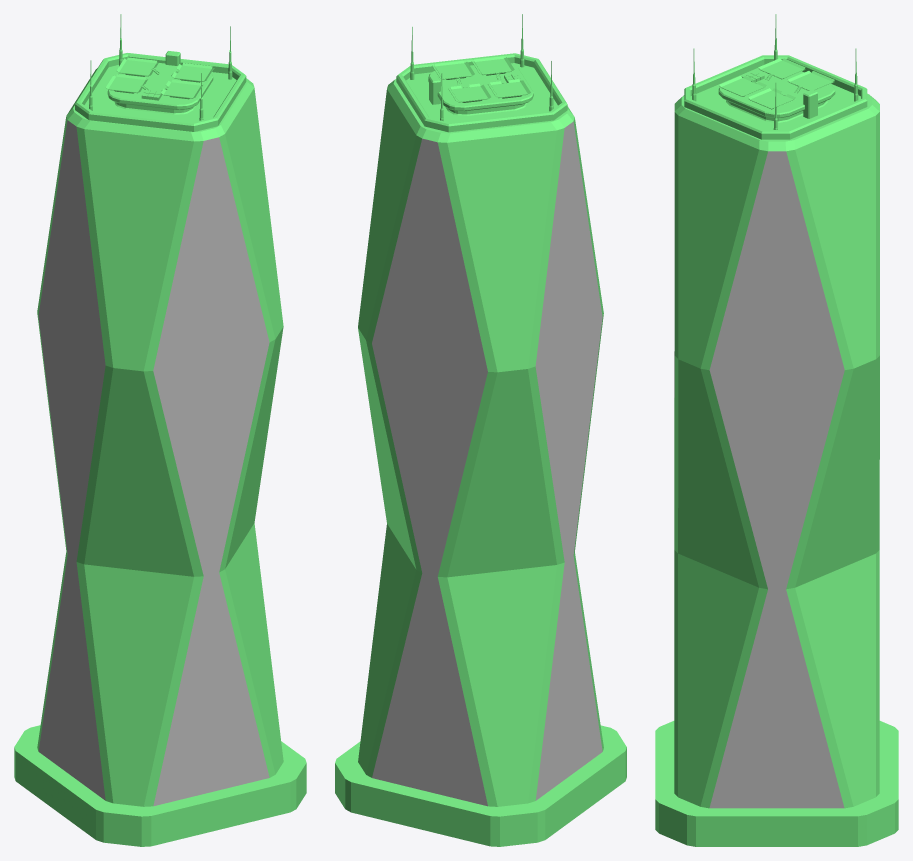
The model's file is Building.5.fbx.
3 views of the same model, side by side, from view 1: azimuth 30°, elevation 25°; view 2: azimuth 150°, elevation 25°; view 3: azimuth 270°, elevation 25° (orthographic).
Parts seen in each view (by area): view 1: Building_5; view 2: Building_5; view 3: Building_5.
Boxes of the visible parts, x1=… form: Building_5: x1=14, y1=14, x2=306, y2=846; Building_5: x1=335, y1=14, x2=626, y2=846; Building_5: x1=655, y1=14, x2=898, y2=846.
Size of the model in its own units: 2047 by 6939 by 2047.
